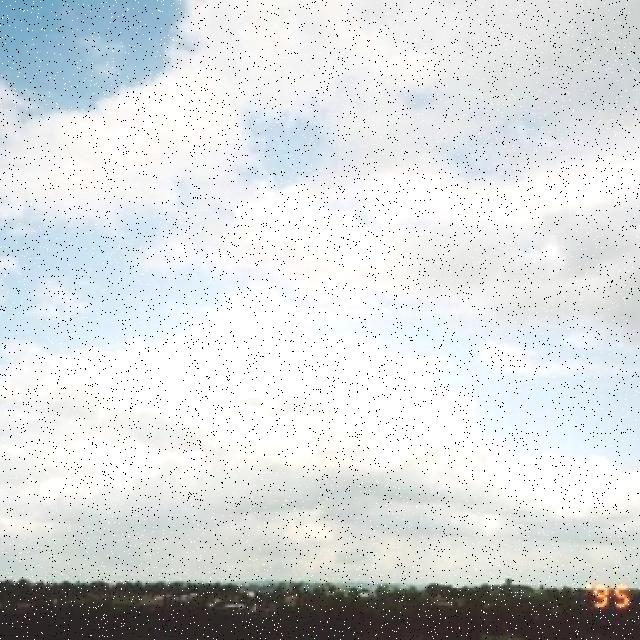Sc: (1, 2, 640, 522)
